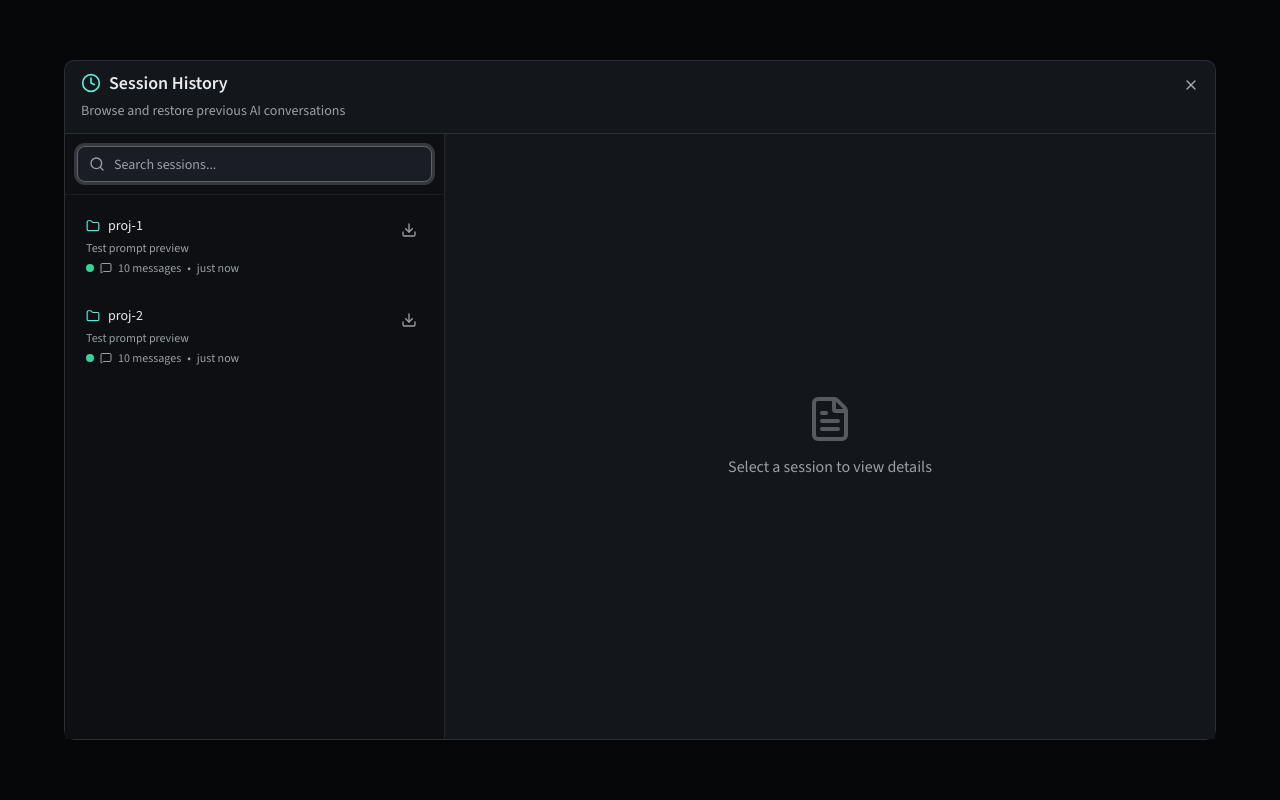
it: SessionBrowser › search filtering › should filter by model name
Expected: the text "proj-1" is shown, left=108, top=216, right=143, bottom=236
Type "gpt" into the field with placeholder "Search sessions...". click: (254, 164)
box: left=77, top=146, right=432, bottom=182
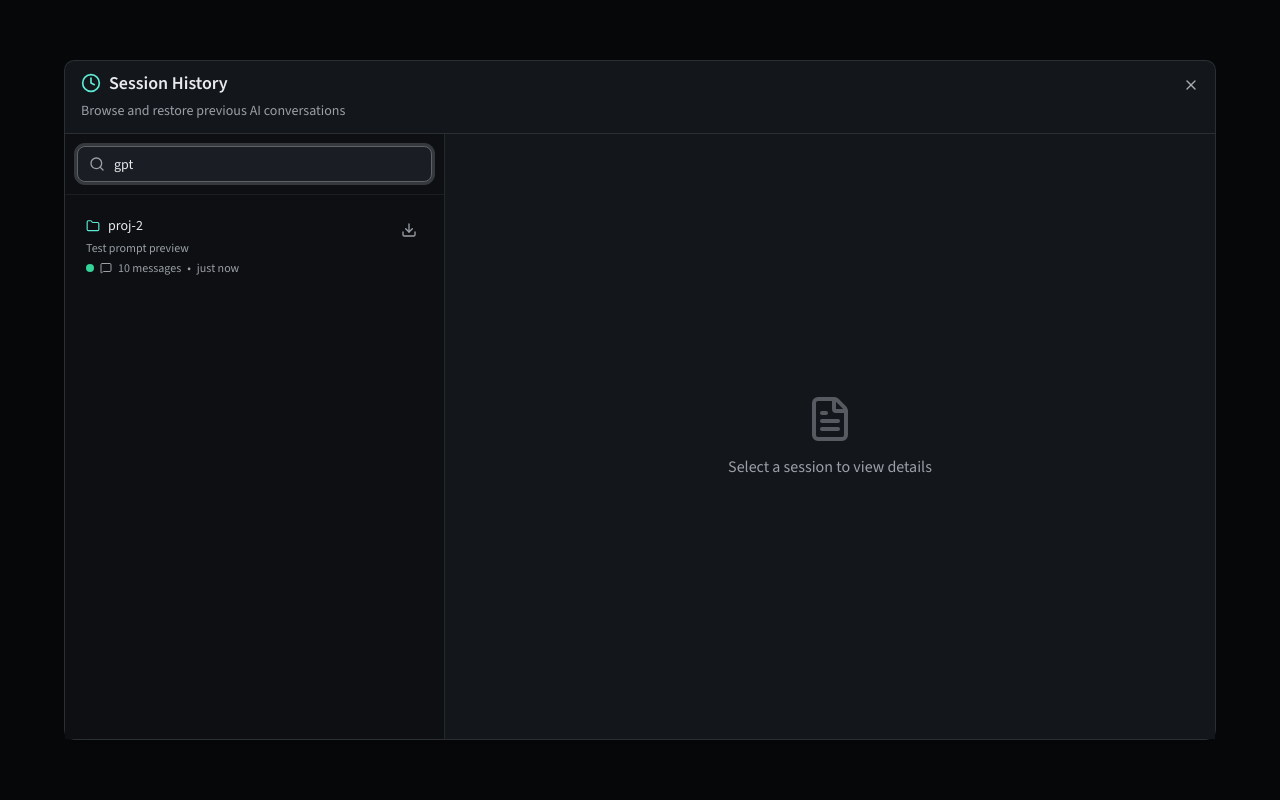
Expected: the text "proj-2" is shown, left=108, top=216, right=143, bottom=236
Expected: the button "proj-1" is gone
